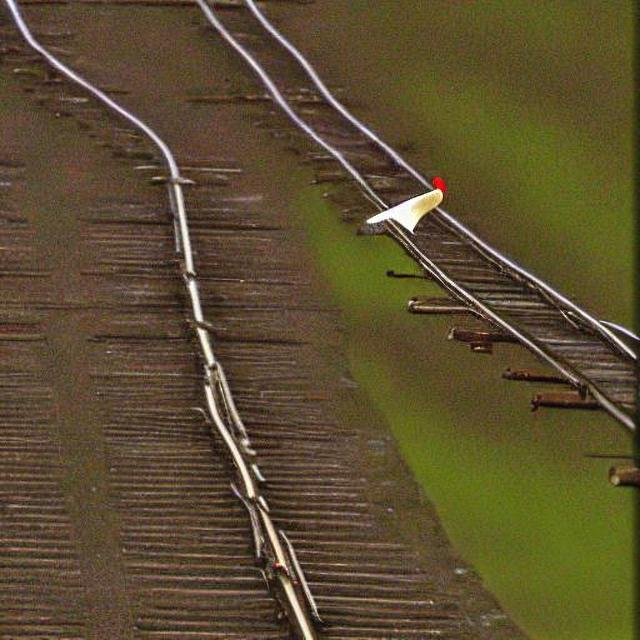floating object: (363, 180, 444, 232)
